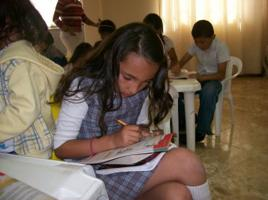person: (54, 24, 213, 200)
